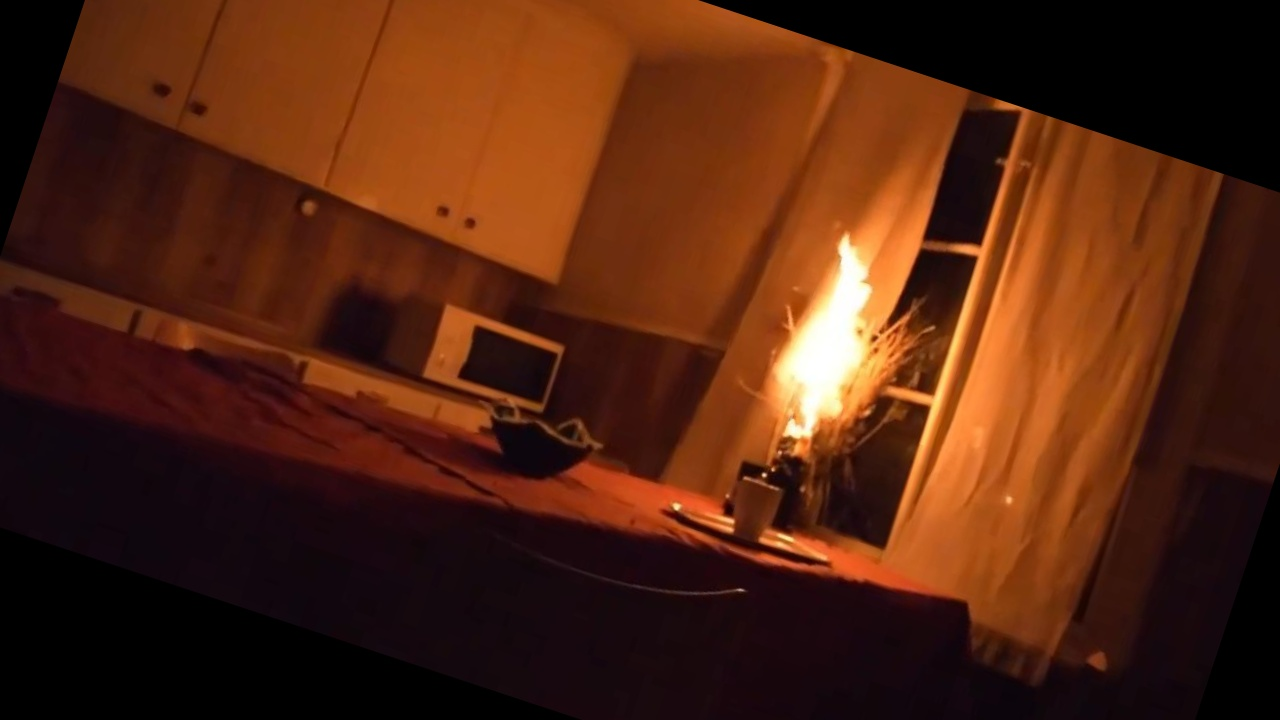fire: (677, 183, 953, 525)
